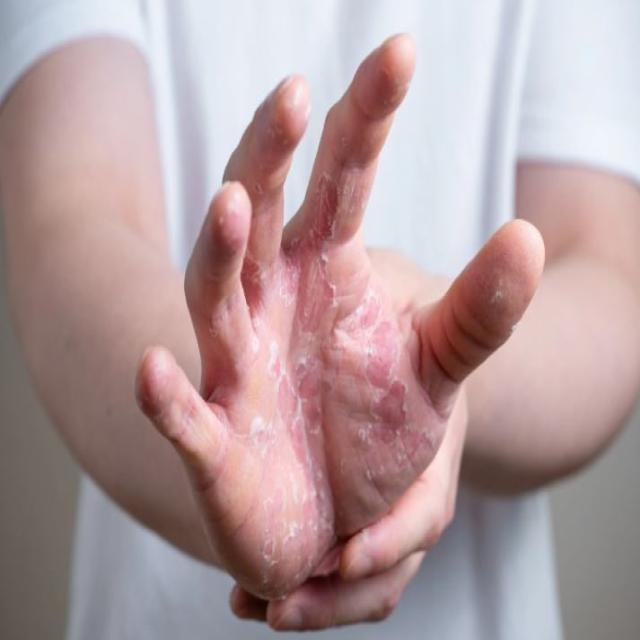Eczema: (221, 167, 422, 577)
